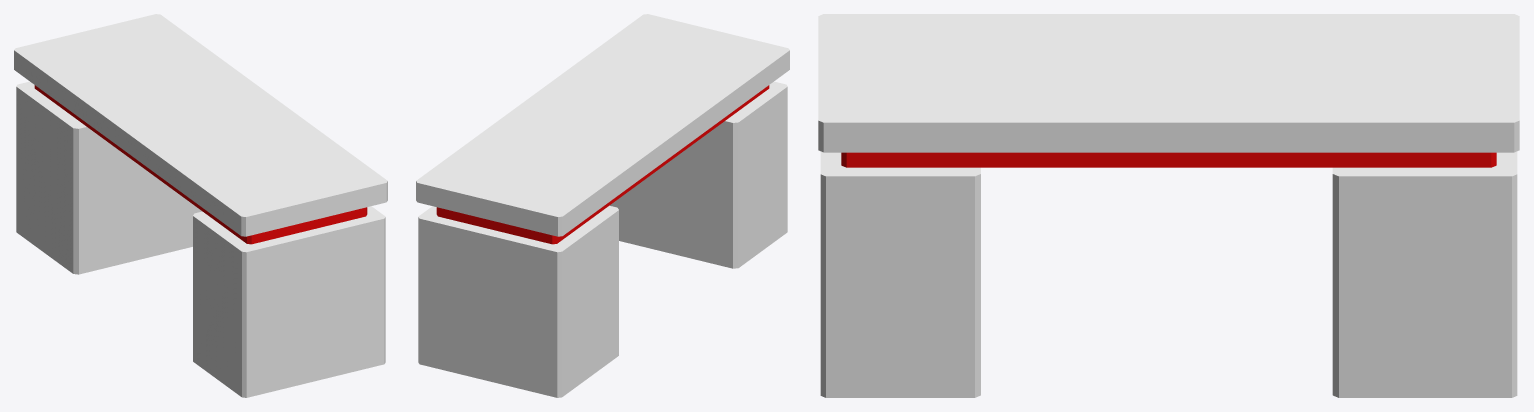
File: Workbench_01.fbx
3 renders of one model, left to right at view 1: azimuth 30°, elevation 25°; view 2: azimuth 150°, elevation 25°; view 3: azimuth 270°, elevation 25°, orthographic. The views are drawn at different scales.
Visible parts, largest first — view 1: pCube1; view 2: pCube1; view 3: pCube1.
Part boxes in pixels (left/top/right/bottom): pCube1: left=14, top=14, right=387, bottom=397; pCube1: left=416, top=14, right=789, bottom=397; pCube1: left=818, top=14, right=1519, bottom=397.
Bounding box in the file's own units: 152 × 180 × 415.
